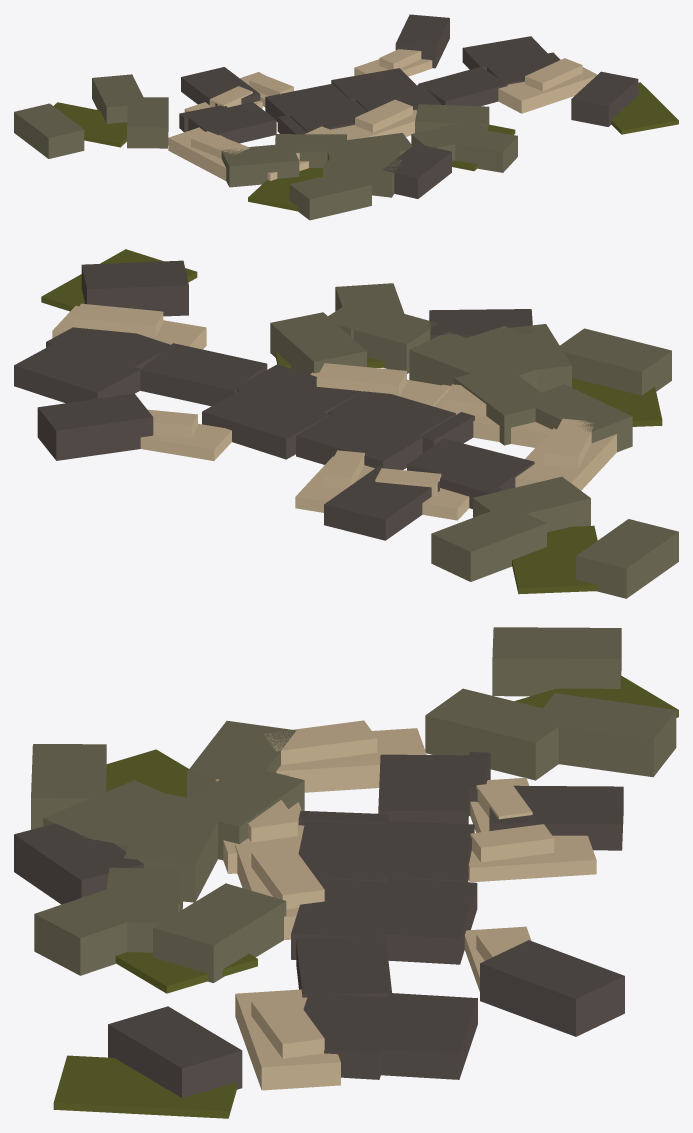
File: SM_SacosRemate_v4_Red_e3_Brecha_LOD0.fbx
3 views of the same model, one above another, from view 1: azimuth 30°, elevation 25°; view 2: azimuth 150°, elevation 25°; view 3: azimuth 270°, elevation 25° (orthographic). The views are drawn at different scales.
Visible parts, largest first — view 1: SM_sacos_piezas_v39_LOD0; view 2: SM_sacos_piezas_v39_LOD0; view 3: SM_sacos_piezas_v39_LOD0.
Part boxes in pixels (<box>): SM_sacos_piezas_v39_LOD0: <box>14,14,678,220</box>; SM_sacos_piezas_v39_LOD0: <box>14,249,678,598</box>; SM_sacos_piezas_v39_LOD0: <box>14,627,678,1118</box>.
Size of the model in its own units: 6.72 by 0.26 by 4.15.
